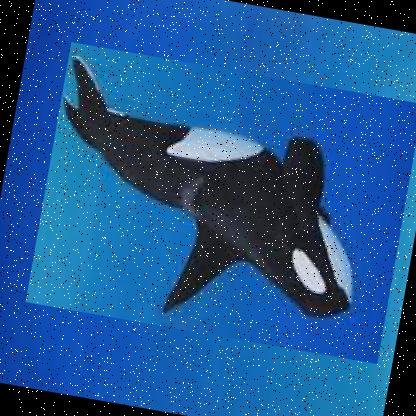killer_whale: (22, 41, 415, 365)
